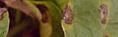Tomato Early blight leaf: (62, 0, 118, 37)
